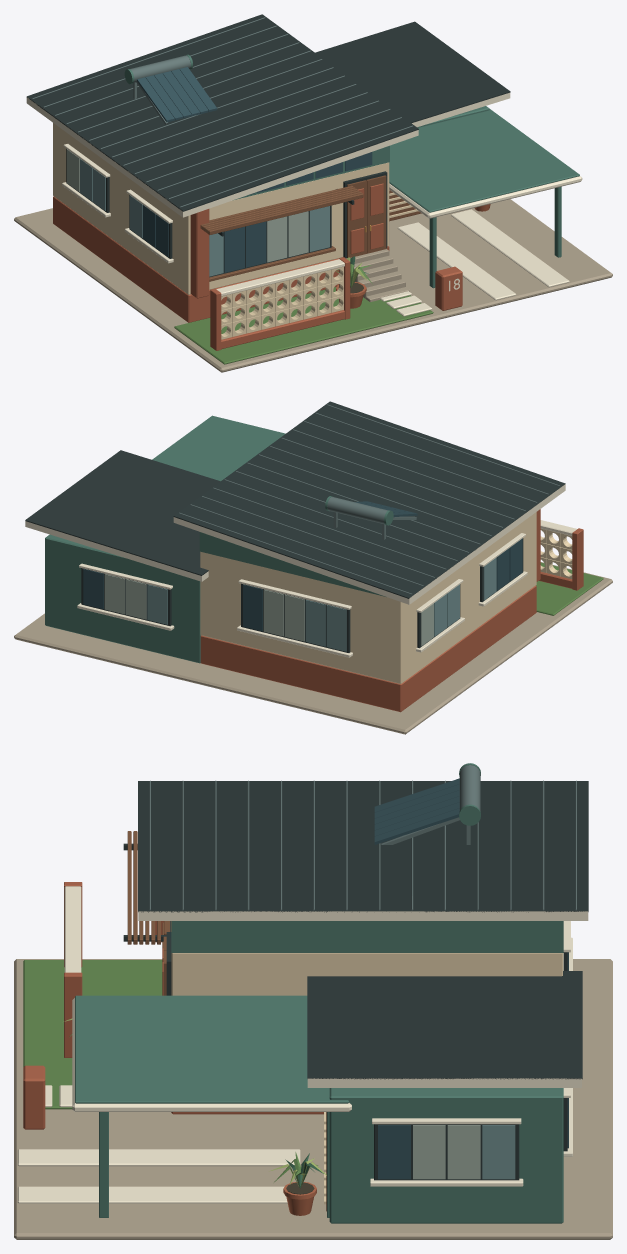
3 renders of one model, top to bottom at view 1: azimuth 30°, elevation 25°; view 2: azimuth 150°, elevation 25°; view 3: azimuth 270°, elevation 25°, orthographic. The views are drawn at different scales.
Parts seen in each view (by area): view 1: Raking concrete plates, Front garden, Split level residence, Porte cochere, Casements and sills, Roof standing seams, Sunburst breeze-block screen, Roof hot water system, Entrance joinery, Stair treads, Potted pandan; view 2: Raking concrete plates, Split level residence, Front garden, Casements and sills, Roof standing seams, Porte cochere, Roof hot water system, Sunburst breeze-block screen; view 3: Raking concrete plates, Front garden, Split level residence, Porte cochere, Casements and sills, Roof hot water system, Roof standing seams, Potted pandan.
Part boxes in pixels (<box>): Raking concrete plates: <box>26,14,510,217</box>; Front garden: <box>14,199,612,372</box>; Split level residence: <box>53,106,489,322</box>; Porte cochere: <box>389,109,582,288</box>; Casements and sills: <box>62,144,335,281</box>; Roof standing seams: <box>32,17,412,207</box>; Sunburst breeze-block screen: <box>221,266,343,339</box>; Roof hot water system: <box>124,54,217,124</box>; Entrance joinery: <box>343,171,387,258</box>; Stair treads: <box>346,249,409,301</box>; Potted pandan: <box>335,204,490,308</box>; Raking concrete plates: <box>25,401,565,604</box>; Split level residence: <box>45,509,540,712</box>; Front garden: <box>14,520,612,734</box>; Casements and sills: <box>77,533,527,657</box>; Roof standing seams: <box>179,404,559,594</box>; Porte cochere: <box>152,415,285,481</box>; Roof hot water system: <box>325,496,417,539</box>; Sunburst breeze-block screen: <box>540,528,572,579</box>; Raking concrete plates: <box>138,781,588,1087</box>; Front garden: <box>14,882,612,1239</box>; Split level residence: <box>123,831,563,1223</box>; Porte cochere: <box>72,995,351,1217</box>; Casements and sills: <box>162,921,572,1186</box>; Roof hot water system: <box>374,763,480,844</box>; Roof standing seams: <box>149,780,576,910</box>; Potted pandan: <box>63,1018,326,1215</box>.
Bounding box in the file's own units: 14.82 × 6.2 × 13.58.
